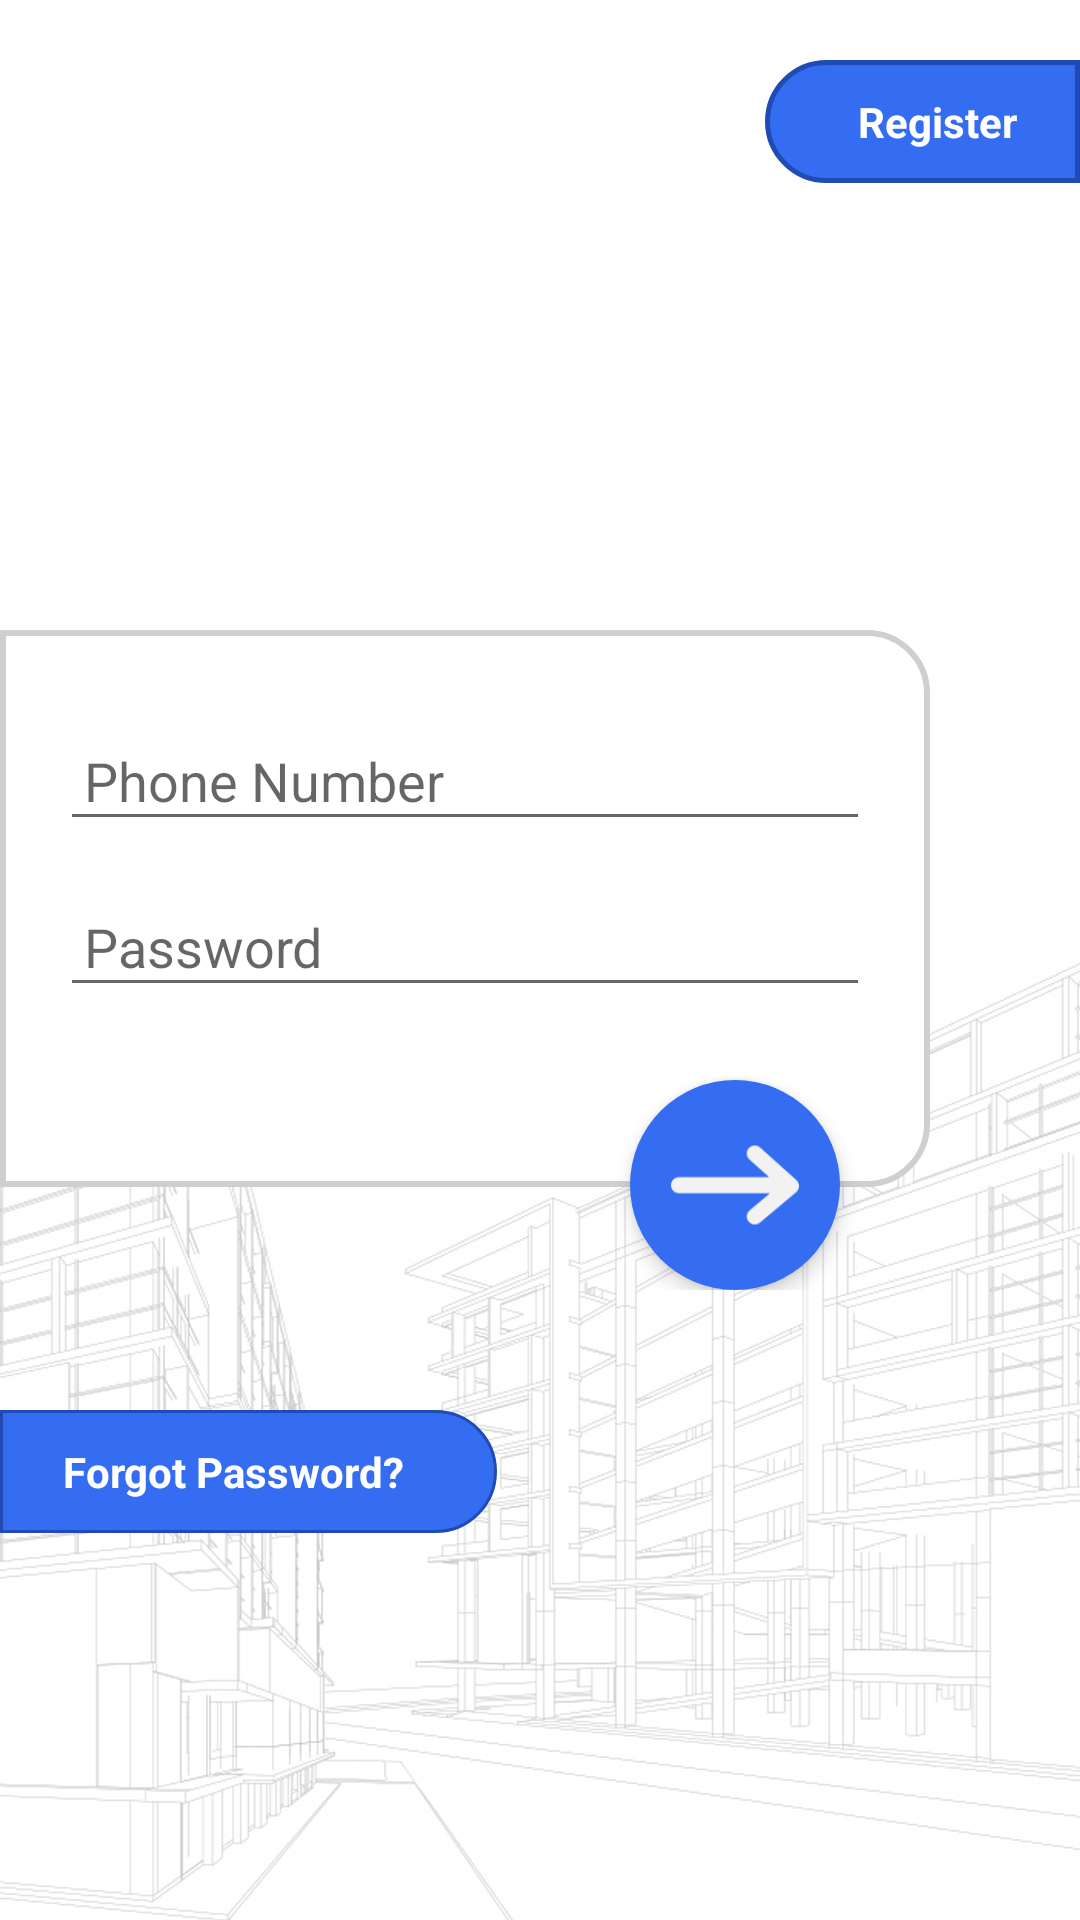

Where icons sit on this 1080×1920 app screen, as bbox=(x1, y1, x2, y2):
right arrow: bbox=(671, 1145, 799, 1225)
